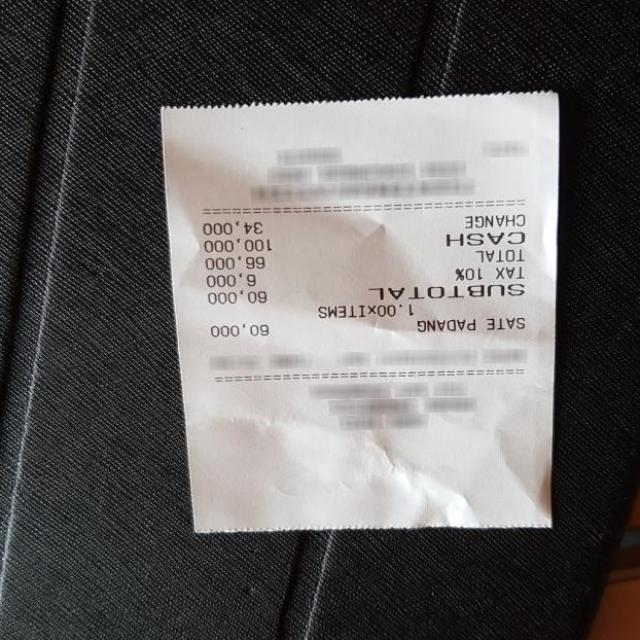kertas: (160, 92, 564, 531)
